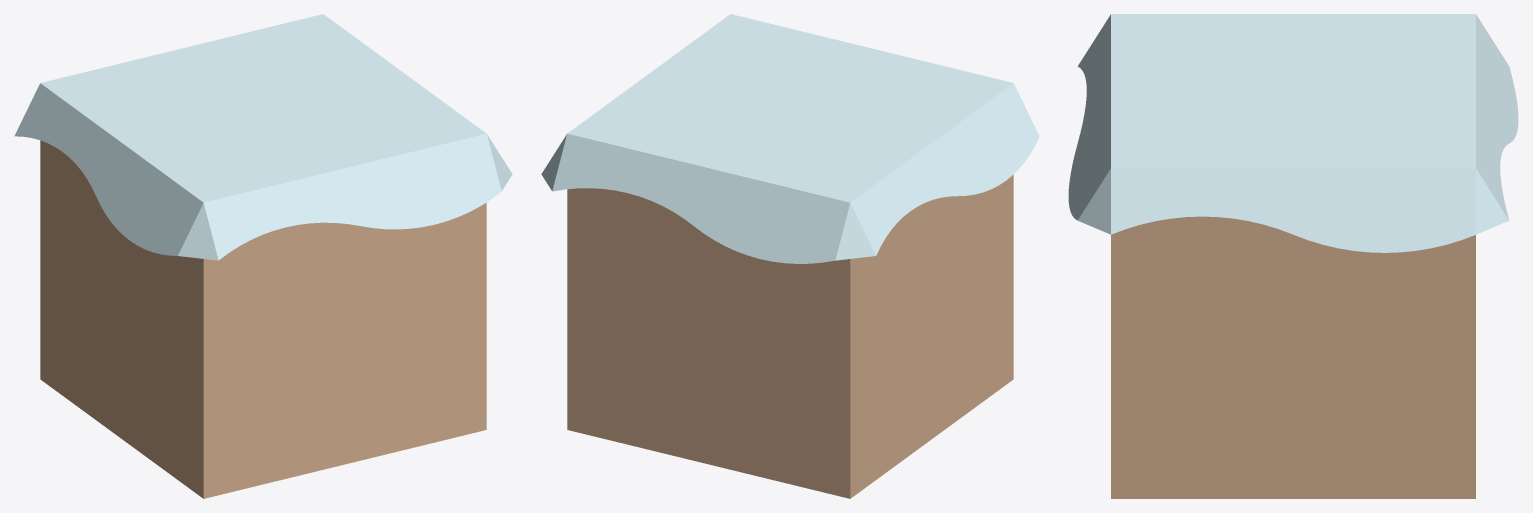
Rendered from blockSnow.glb.
3 views of the same model, side by side, from view 1: azimuth 30°, elevation 25°; view 2: azimuth 150°, elevation 25°; view 3: azimuth 270°, elevation 25° (orthographic). The views are drawn at different scales.
Visible parts, largest first — view 1: blockSnow; view 2: blockSnow; view 3: blockSnow.
Boxes of the visible parts, <box> form: blockSnow: <box>14,14,512,498</box>; blockSnow: <box>541,14,1039,498</box>; blockSnow: <box>1068,14,1518,498</box>.
Bounding box in the file's own units: 1.23 × 1 × 1.23.
